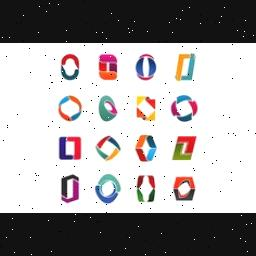o: (168, 92, 202, 126), (54, 90, 86, 124), (92, 172, 124, 206), (170, 132, 200, 166), (92, 134, 124, 164), (172, 52, 200, 86), (132, 131, 160, 165), (58, 170, 84, 206), (170, 174, 200, 204), (56, 133, 84, 163), (132, 51, 158, 83), (133, 94, 159, 124), (58, 52, 82, 84), (96, 52, 120, 84)
